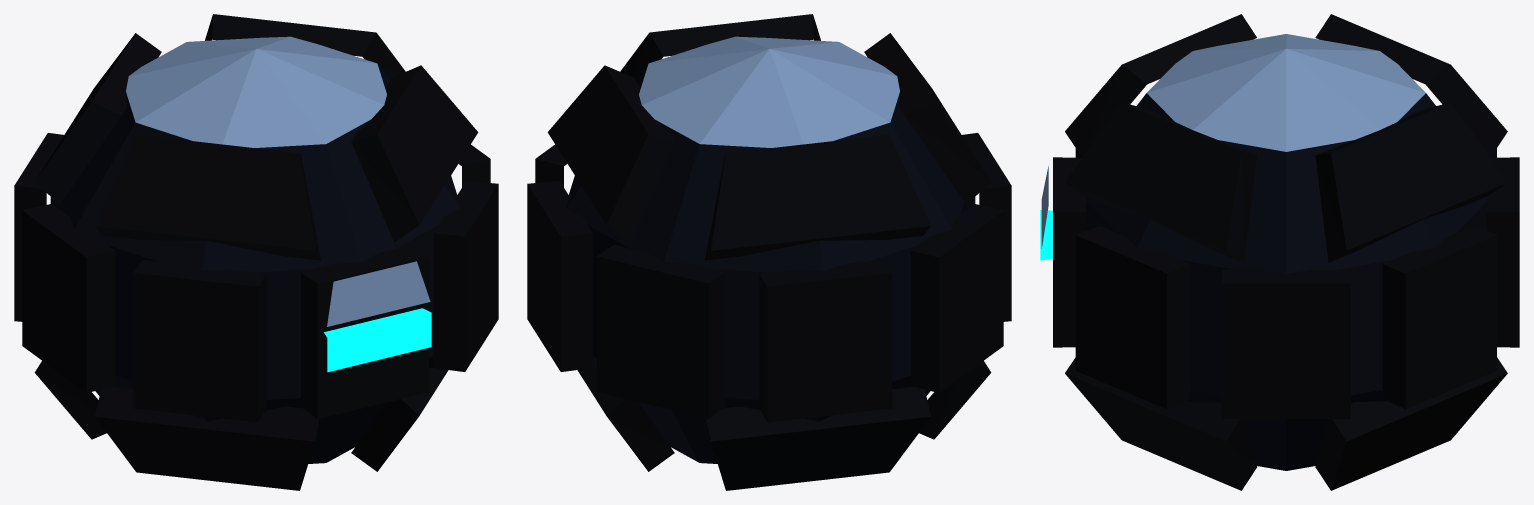
Rendered from SM_Chassis_Bulwark_01.glb.
3 renders of one model, left to right at view 1: azimuth 30°, elevation 25°; view 2: azimuth 150°, elevation 25°; view 3: azimuth 270°, elevation 25°, orthographic.
Parts seen in each view (by area): view 1: Part_MAT_DarkNeutral, Part_MAT_AltNeutral, Part_MAT_LightTrim, Part_EMI_Cyan; view 2: Part_MAT_DarkNeutral, Part_MAT_AltNeutral, Part_MAT_LightTrim; view 3: Part_MAT_DarkNeutral, Part_MAT_AltNeutral, Part_MAT_LightTrim, Part_EMI_Cyan.
Boxes of the visible parts, x1,y1,x2,y2 form: Part_MAT_DarkNeutral: [14, 14, 498, 490]; Part_MAT_AltNeutral: [50, 64, 459, 463]; Part_MAT_LightTrim: [126, 36, 430, 326]; Part_EMI_Cyan: [324, 308, 431, 372]; Part_MAT_DarkNeutral: [527, 14, 1011, 490]; Part_MAT_AltNeutral: [566, 64, 975, 463]; Part_MAT_LightTrim: [639, 36, 899, 147]; Part_MAT_DarkNeutral: [1053, 14, 1519, 490]; Part_MAT_AltNeutral: [1086, 93, 1486, 470]; Part_MAT_LightTrim: [1041, 34, 1425, 248]; Part_EMI_Cyan: [1040, 210, 1052, 260].
Size of the model in its own units: 5.44 by 5.24 by 5.59.
4 materials, 4 textured.
